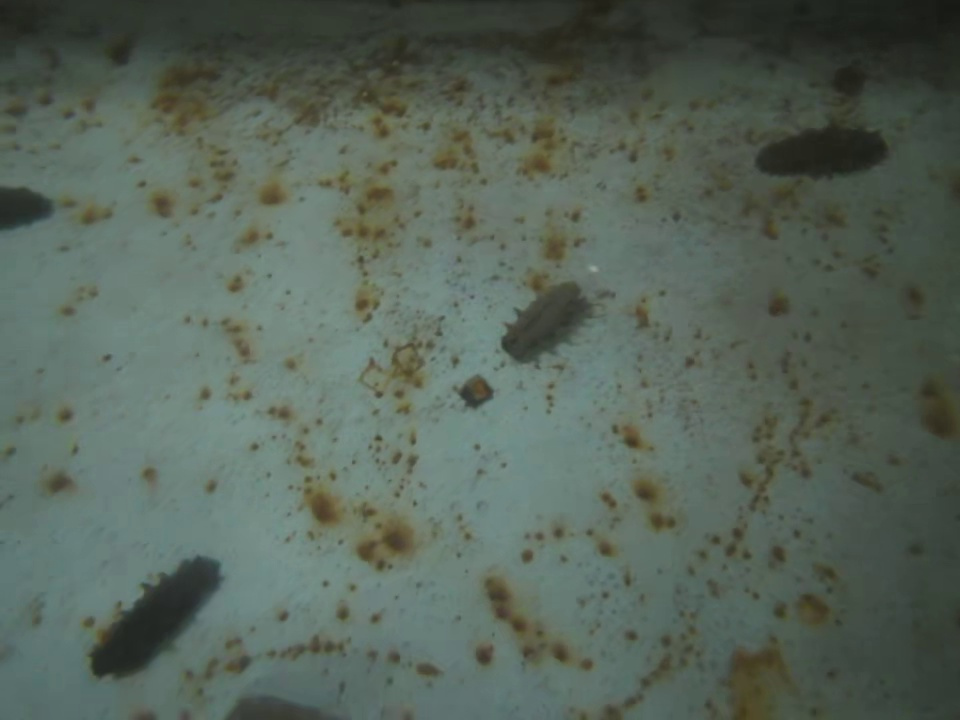seacucumber: (88, 550, 224, 680), (753, 127, 901, 179), (501, 280, 587, 361), (1, 182, 58, 232)
